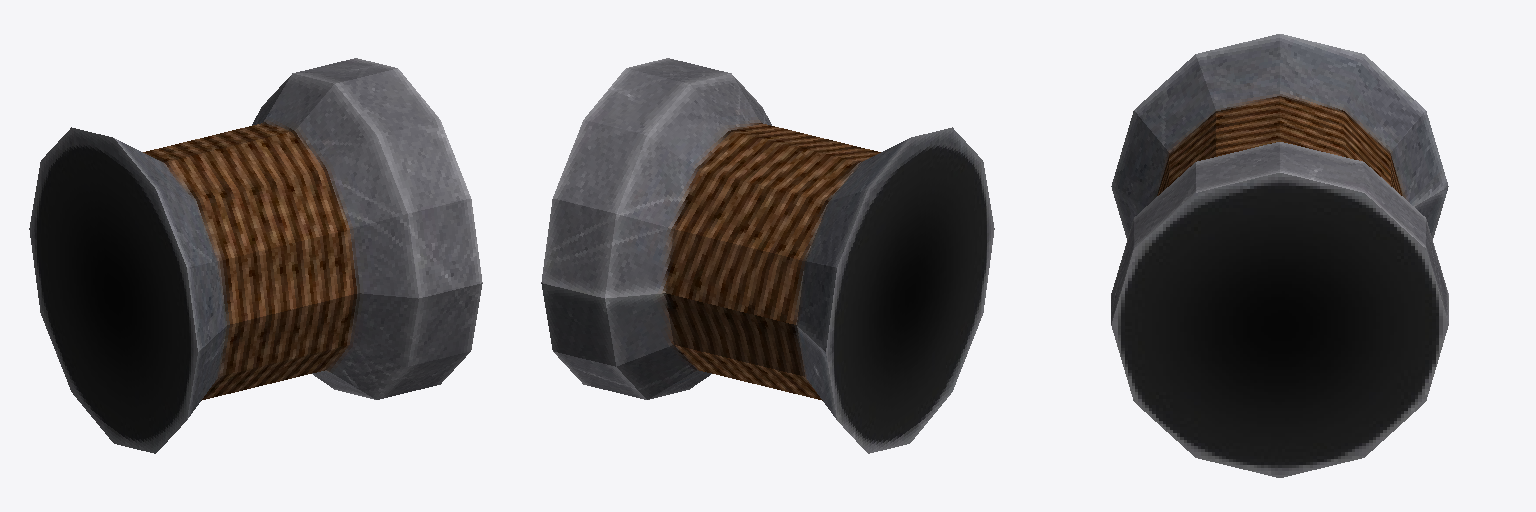
3 renders of one model, left to right at view 1: azimuth 30°, elevation 25°; view 2: azimuth 150°, elevation 25°; view 3: azimuth 270°, elevation 25°, orthographic.
Visible parts, largest first — view 1: Object08; view 2: Object08; view 3: Object08.
Boxes of the visible parts, x1,y1,x2,y2 form: Object08: [29, 58, 482, 453]; Object08: [541, 58, 994, 453]; Object08: [1111, 34, 1448, 477].
Bounding box in the file's own units: 19.43 × 19.96 × 19.96.
Materials: 1 (1 with a texture image).